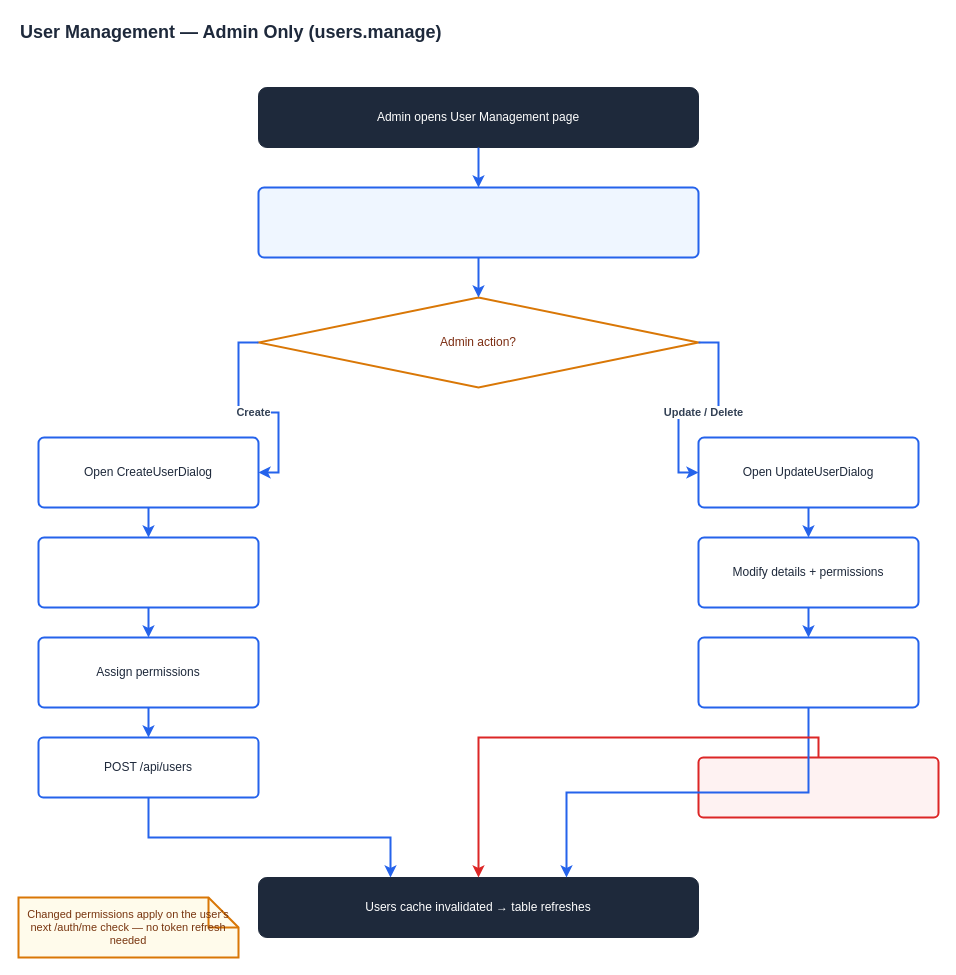
Image size: 956x975. Some labels were removed from this diagram. The shapes that lost their labels are listed below. From the top down, each one's centre as x and y in pixels, then its label:
At (478,222): "Users list — useQuery(['users']) · GET /api/users (excludes self)".
At (148,572): "User details + role".
At (808,672): "PUT /api/users/:id".
At (818,787): "DeleteUserDialog → DELETE /api/users/:id".
